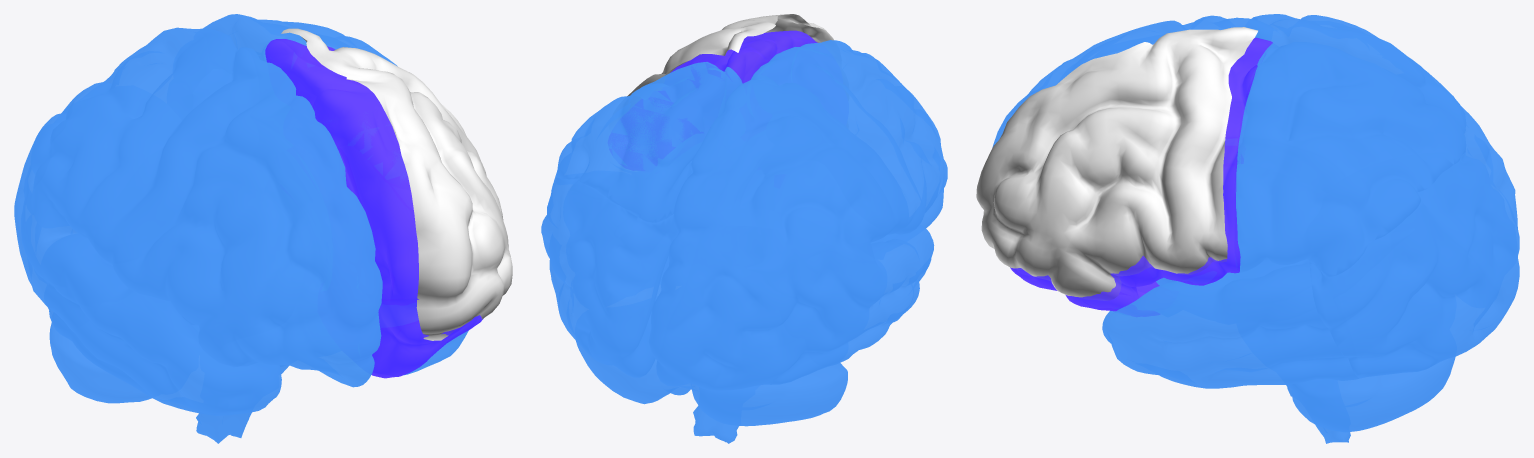
Rendered from 发光大脑2导出.glb.
3 renders of one model, left to right at view 1: azimuth 30°, elevation 25°; view 2: azimuth 150°, elevation 25°; view 3: azimuth 270°, elevation 25°, orthographic. The views are drawn at different scales.
Parts seen in each view (by area): view 1: zuoeye, youeye.010, zuodingye, zuonieye, youeye, zuozhenye, youdingye, xiaonao, naogan, younieye, haimati; view 2: zuozhenye, zuodingye, youzhenye, zuoeye, youdingye, xiaonao, zuonieye, youeye, youeye.010, younieye, naogan, haimati; view 3: youeye.010, youdingye, youzhenye, younieye, youeye, xiaonao, zuodingye, zuoeye, zuozhenye, naogan, haimati.
Boxes of the visible parts, <box> form: zuoeye: <box>93,47,382,387</box>; youeye.010: <box>281,28,512,340</box>; zuodingye: <box>30,27,263,262</box>; zuonieye: <box>40,233,281,415</box>; youeye: <box>265,39,483,378</box>; zuozhenye: <box>14,86,180,323</box>; youdingye: <box>203,14,406,179</box>; xiaonao: <box>49,322,151,403</box>; naogan: <box>143,295,289,443</box>; younieye: <box>379,303,468,375</box>; haimati: <box>256,160,324,277</box>; zuozhenye: <box>648,209,887,390</box>; zuodingye: <box>673,74,908,261</box>; youzhenye: <box>541,173,678,377</box>; zuoeye: <box>752,40,947,251</box>; youdingye: <box>555,62,742,222</box>; xiaonao: <box>576,341,847,426</box>; zuonieye: <box>752,224,934,364</box>; youeye: <box>608,30,817,170</box>; youeye.010: <box>627,14,833,96</box>; younieye: <box>563,192,662,308</box>; naogan: <box>693,254,819,443</box>; haimati: <box>720,152,770,265</box>; youeye.010: <box>976,27,1257,300</box>; youdingye: <box>1235,42,1466,276</box>; youzhenye: <box>1303,152,1519,378</box>; younieye: <box>1102,259,1359,388</box>; youeye: <box>1010,37,1272,316</box>; xiaonao: <box>1287,357,1455,432</box>; zuodingye: <box>1253,14,1466,133</box>; zuoeye: <box>992,15,1272,147</box>; zuozhenye: <box>1399,74,1519,254</box>; naogan: <box>1156,259,1350,443</box>; haimati: <box>1225,138,1343,190</box>.
Bounding box in the file's own units: 2.44 × 2.61 × 3.04.
